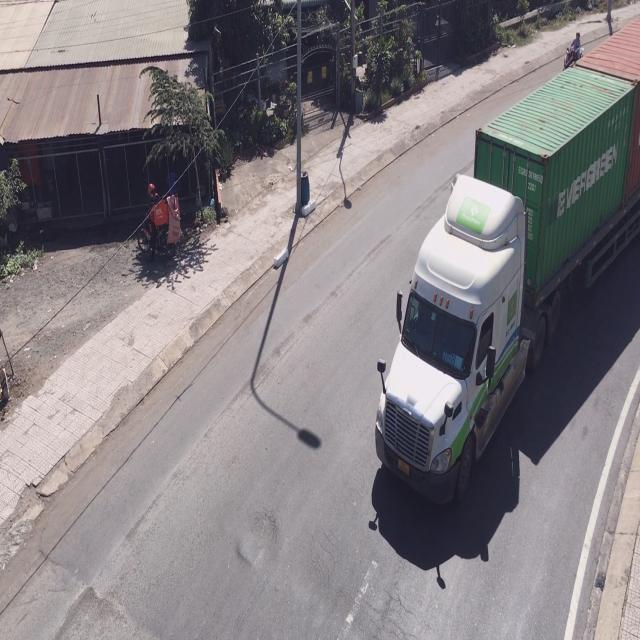motorbike: (564, 28, 584, 69)
truck: (376, 17, 640, 512)
